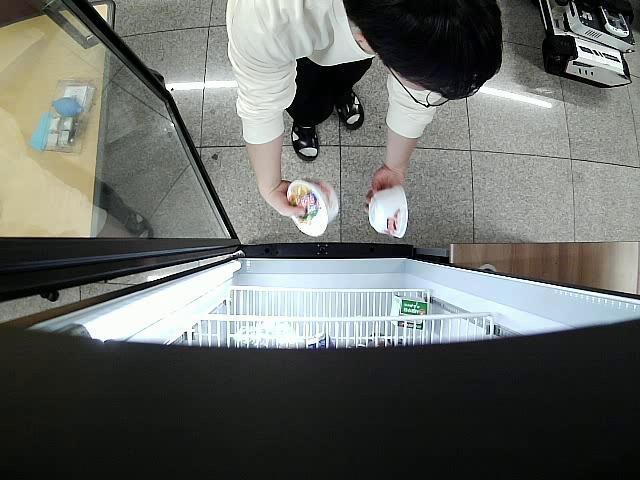09_yukGaeJang: (287, 176, 342, 237), (368, 186, 409, 238)
